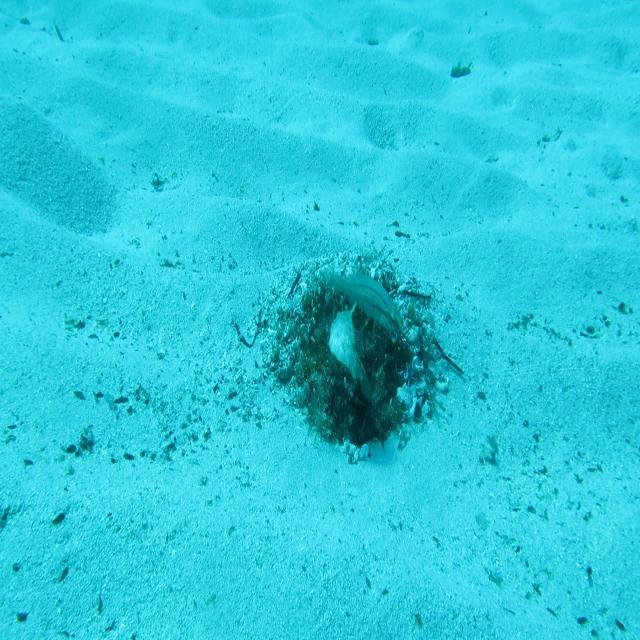DAN_CIRC: (327, 300, 375, 404)
core_nest: (327, 294, 378, 347)
female: (318, 264, 406, 338)
nest: (253, 237, 459, 486)
vegetation: (448, 58, 473, 81)
